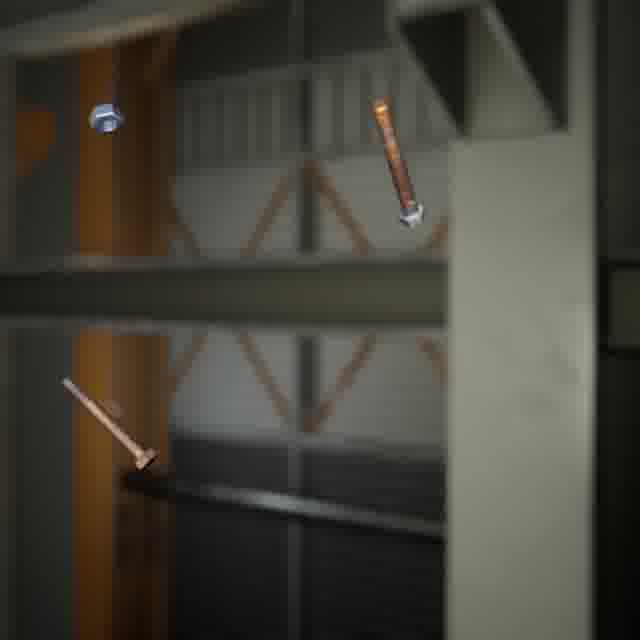bolt: (56, 371, 161, 476), (367, 95, 429, 231)
nut: (85, 99, 128, 139)
